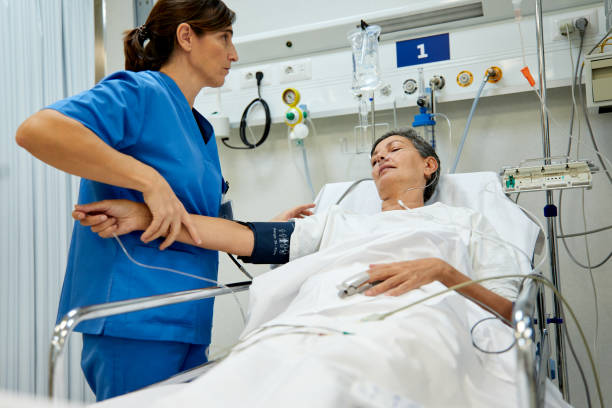bedrail: (35, 274, 263, 397), (499, 268, 556, 408)
hospital_bed: (16, 129, 567, 408)
iv_pole: (529, 1, 575, 400)
patient: (73, 128, 555, 408)
staff: (13, 1, 237, 408)
syringe_pump: (494, 157, 591, 194)
